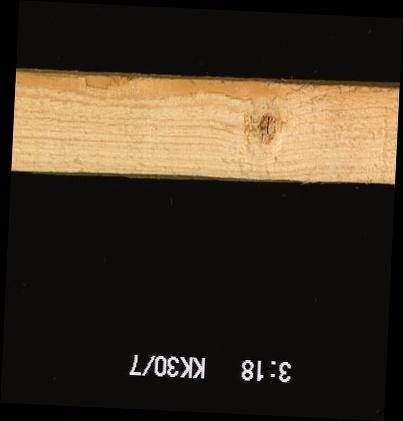sound_knot: (249, 109, 280, 149)
